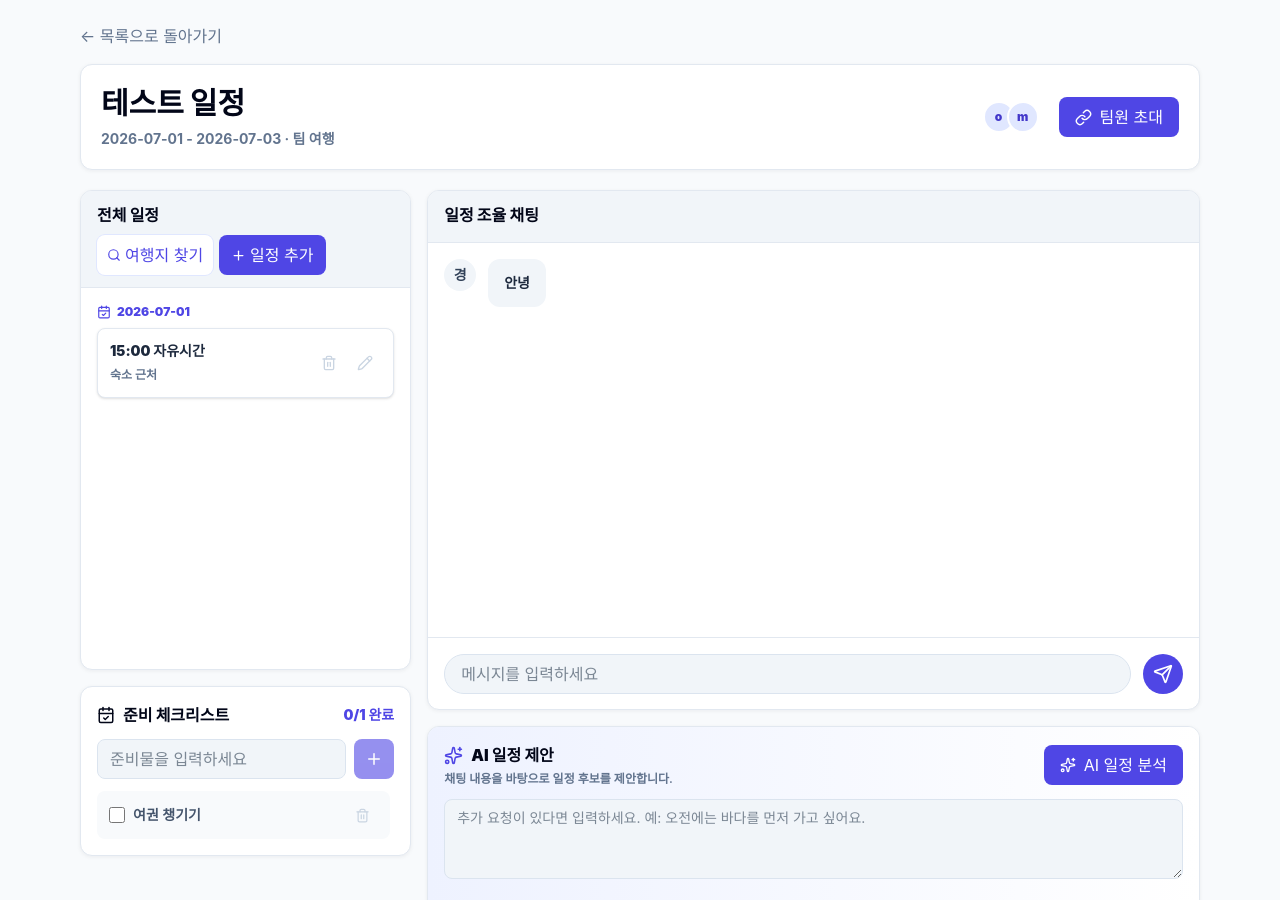
Test: ScheduleDetailPage collaboration controls › shows analysis results immediately below the chat
The width and height of the screenshot is (1280, 900).
Type "바다를 먼저 가고 싶어요" into the text box with test id "ai-additional-request". click: [814, 839]
box: x1=444 y1=799 x2=1183 y2=879
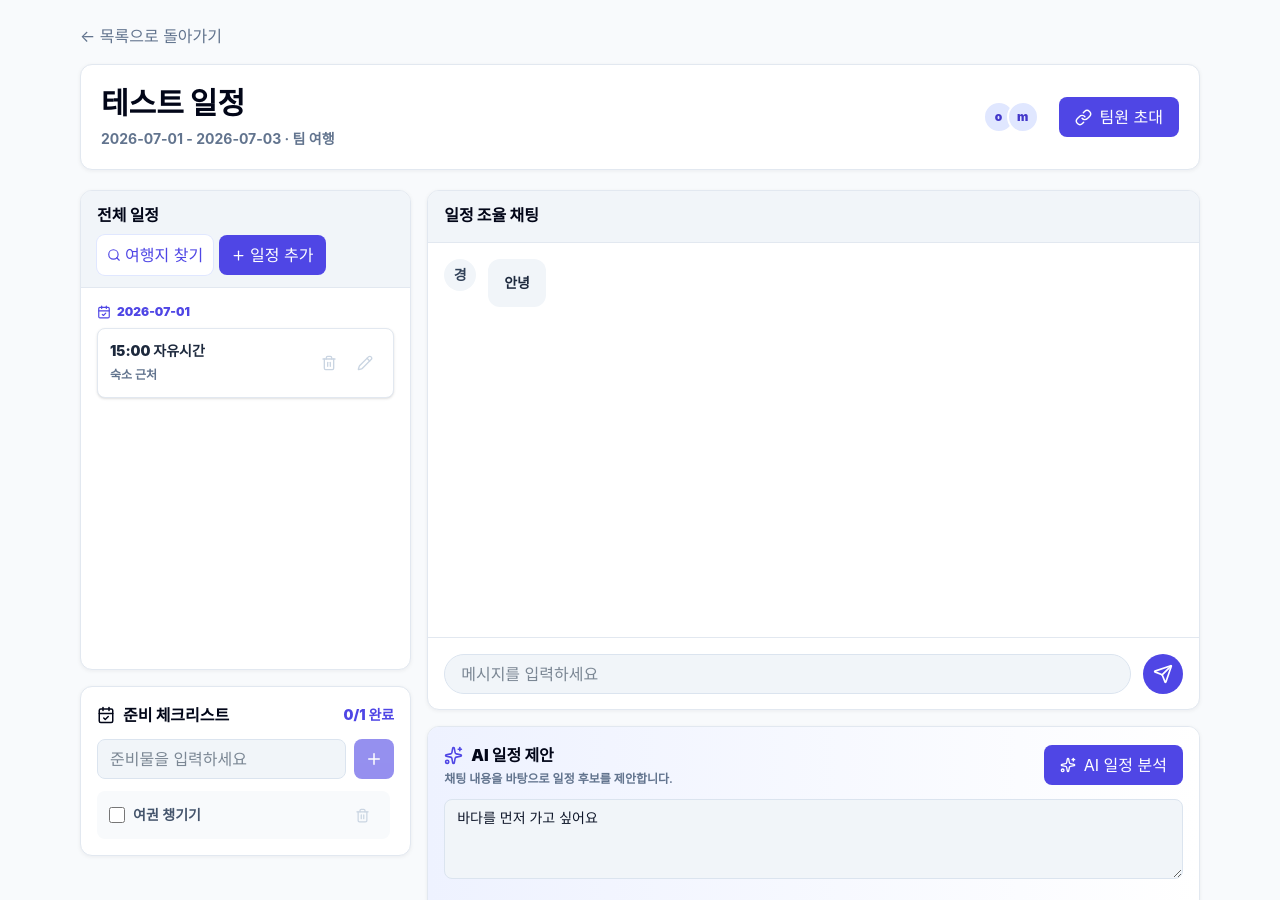
Click the button with test id "analyze-trip-chat". click: [1113, 765]
box: x1=1044 y1=745 x2=1183 y2=785
(page scrolled)
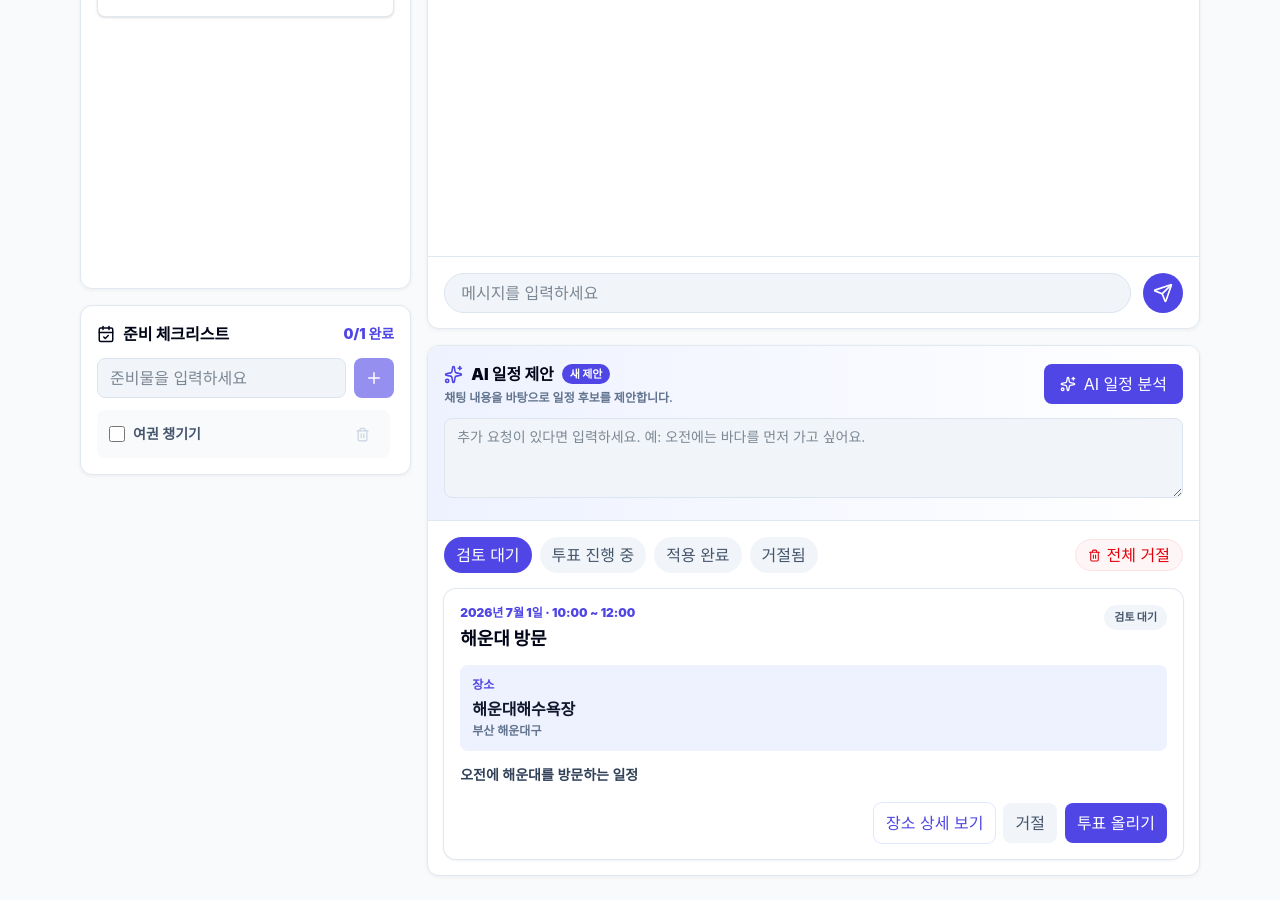
Result: the element with test id "ai-suggestions-section" shows "해운대 방문" at x1=460 y1=628 x2=547 y2=649
